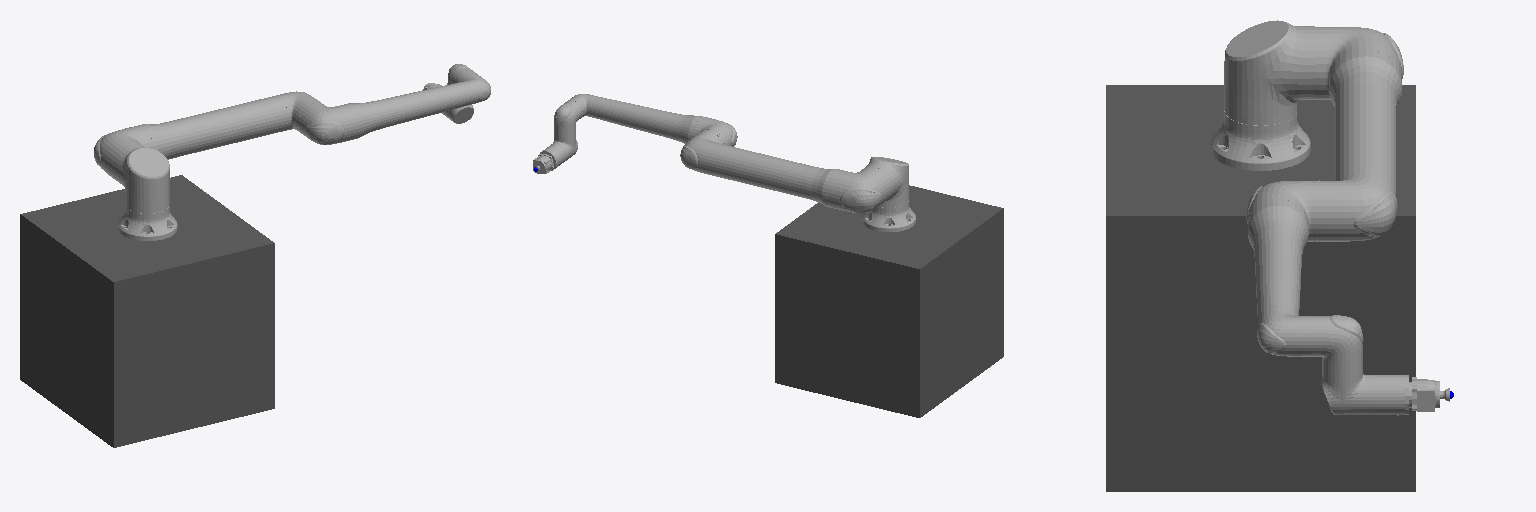
robot.urdf — ur20_robot:
<?xml version="1.0" ?>
<!-- =================================================================================== -->
<!-- |    This document was autogenerated by xacro from ur20.xacro                     | -->
<!-- |    EDITING THIS FILE BY HAND IS NOT RECOMMENDED                                 | -->
<!-- =================================================================================== -->
<robot name="ur20_robot">
  <!--
    Base UR robot series xacro macro.

    NOTE: this is NOT a URDF. It cannot directly be loaded by consumers
    expecting a flattened '.urdf' file. See the top-level '.xacro' for that
    (but note: that .xacro must still be processed by the xacro command).

    For use in '.launch' files: use one of the 'load_urX.launch' convenience
    launch files.

    This file models the base kinematic chain of a UR robot, which then gets
    parameterised by various configuration files to convert it into a UR3(e),
    UR5(e), UR10(e), UR16e, UR20 or UR30.

    NOTE: the default kinematic parameters (ie: link lengths, frame locations,
    offets, etc) do not correspond to any particular robot. They are defaults
    only. There WILL be non-zero offsets between the Forward Kinematics results
    in TF (ie: robot_state_publisher) and the values reported by the Teach
    Pendant.

    For accurate (and robot-specific) transforms, the 'kinematics_parameters_file'
    parameter MUST point to a .yaml file containing the appropriate values for
    the targetted robot.

    If using the UniversalRobots/Universal_Robots_ROS_Driver, follow the steps
    described in the readme of that repository to extract the kinematic
    calibration from the controller and generate the required .yaml file.

    Main author of the migration to yaml configs: Ludovic Delval.

    Contributors to previous versions (in no particular order):

     - Felix Messmer
     - Kelsey Hawkins
     - Wim Meeussen
     - Shaun Edwards
     - Nadia Hammoudeh Garcia
     - Dave Hershberger
     - G. vd. Hoorn
     - Philip Long
     - Dave Coleman
     - Miguel Prada
     - Mathias Luedtke
     - Marcel Schnirring
     - Felix von Drigalski
     - Felix Exner
     - Jimmy Da Silva
     - Ajit Krisshna N L
     - Muhammad Asif Rana
  -->
  <!--
    NOTE: the macro defined in this file is NOT part of the public API of this
          package. Users CANNOT rely on this file being available, or stored in
          this location. Nor can they rely on the existence of the macro.
  -->
  <transmission name="shoulder_pan_trans">
    <type>transmission_interface/SimpleTransmission</type>
    <joint name="shoulder_pan_joint">
      <hardwareInterface>hardware_interface/PositionJointInterface</hardwareInterface>
    </joint>
    <actuator name="shoulder_pan_motor">
      <mechanicalReduction>1</mechanicalReduction>
    </actuator>
  </transmission>
  <transmission name="shoulder_lift_trans">
    <type>transmission_interface/SimpleTransmission</type>
    <joint name="shoulder_lift_joint">
      <hardwareInterface>hardware_interface/PositionJointInterface</hardwareInterface>
    </joint>
    <actuator name="shoulder_lift_motor">
      <mechanicalReduction>1</mechanicalReduction>
    </actuator>
  </transmission>
  <transmission name="elbow_trans">
    <type>transmission_interface/SimpleTransmission</type>
    <joint name="elbow_joint">
      <hardwareInterface>hardware_interface/PositionJointInterface</hardwareInterface>
    </joint>
    <actuator name="elbow_motor">
      <mechanicalReduction>1</mechanicalReduction>
    </actuator>
  </transmission>
  <transmission name="wrist_1_trans">
    <type>transmission_interface/SimpleTransmission</type>
    <joint name="wrist_1_joint">
      <hardwareInterface>hardware_interface/PositionJointInterface</hardwareInterface>
    </joint>
    <actuator name="wrist_1_motor">
      <mechanicalReduction>1</mechanicalReduction>
    </actuator>
  </transmission>
  <transmission name="wrist_2_trans">
    <type>transmission_interface/SimpleTransmission</type>
    <joint name="wrist_2_joint">
      <hardwareInterface>hardware_interface/PositionJointInterface</hardwareInterface>
    </joint>
    <actuator name="wrist_2_motor">
      <mechanicalReduction>1</mechanicalReduction>
    </actuator>
  </transmission>
  <transmission name="wrist_3_trans">
    <type>transmission_interface/SimpleTransmission</type>
    <joint name="wrist_3_joint">
      <hardwareInterface>hardware_interface/PositionJointInterface</hardwareInterface>
    </joint>
    <actuator name="wrist_3_motor">
      <mechanicalReduction>1</mechanicalReduction>
    </actuator>
  </transmission>
    <!-- TODO: Added by Joe -->
    <!-- ===== world anchor and robot lift ===== -->
  <link name="world"/>

  <!-- Lift robot 29.5" (= 0.7493 m) above world -->
  <joint name="world_to_base_link" type="fixed">
    <parent link="world"/>
    <child link="base_link"/>
    <origin xyz="0 0 0.7493" rpy="0 0 0"/>
  </joint>

    <!-- ===== table geometry ===== -->
  <link name="table">
    <visual>
      <!-- If your visual mesh origin is at the *table center*, set xyz to table_center_in_world.
           If it's at the *table top*, set xyz to the table-top height (0.7493) -->
      <origin xyz="0 0 0.37465" rpy="0 0 0"/>
      <geometry>
        <mesh filename="package://ur_description/meshes/ur20/visual/table.obj" scale="1 1 1"/>
      </geometry>
      <material name="TableGrey">
        <color rgba="0.4 0.4 0.4 1.0"/>
      </material>
    </visual>
    <collision>
      <!-- Match pose to visual -->
      <origin xyz="0 0 0.37465" rpy="0 0 0"/>
      <geometry>
        <mesh filename="package://ur_description/meshes/ur20/collision/table.stl" scale="1 1 1"/>
      </geometry>
    </collision>
  </link>

  <!-- Attach table to world -->
  <joint name="world_to_table" type="fixed">
    <parent link="world"/>
    <child link="table"/>
    <origin xyz="0 0 0" rpy="0 0 0"/>
  </joint>
   <!-- TODO: Added by Joe -->
  <link name="base_link"/>
  <link name="base_link_inertia">
    <visual>
      <origin rpy="0 0 3.141592653589793" xyz="0 0 0"/>
      <geometry>
        <mesh filename="package://ur_description/meshes/ur20/visual/base.obj"/>
      </geometry>
      <material name="LightGrey">
        <color rgba="0.7 0.7 0.7 1.0"/>
      </material>
    </visual>
    <collision>
      <origin rpy="0 0 3.141592653589793" xyz="0 0 0"/>
      <geometry>
        <mesh filename="package://ur_description/meshes/ur20/collision/base.stl"/>
      </geometry>
    </collision>
    <inertial>
      <mass value="4.0"/>
      <origin rpy="0 0 0" xyz="0 0 0"/>
      <inertia ixx="0.0061063308908" ixy="0.0" ixz="0.0" iyy="0.0061063308908" iyz="0.0" izz="0.01125"/>
    </inertial>
  </link>
  <link name="shoulder_link">
    <visual>
      <origin rpy="0 0 3.141592653589793" xyz="0 0 0"/>
      <geometry>
        <mesh filename="package://ur_description/meshes/ur20/visual/shoulder.obj"/>
      </geometry>
      <material name="LightGrey">
        <color rgba="0.7 0.7 0.7 1.0"/>
      </material>
    </visual>
    <collision>
      <origin rpy="0 0 3.141592653589793" xyz="0 0 0"/>
      <geometry>
        <mesh filename="package://ur_description/meshes/ur20/collision/shoulder.stl"/>
      </geometry>
    </collision>
    <inertial>
      <mass value="16.343"/>
      <origin rpy="0 0 0" xyz="0 0 0"/>
      <inertia ixx="0.06613328496334209" ixy="0.0" ixz="0.0" iyy="0.06613328496334209" iyz="0.0" izz="0.0459646875"/>
    </inertial>
  </link>
  <link name="upper_arm_link">
    <visual>
      <origin rpy="1.5707963267948966 0 -1.5707963267948966" xyz="0 0 0.26"/>
      <geometry>
        <mesh filename="package://ur_description/meshes/ur20/visual/upperarm.obj"/>
      </geometry>
      <material name="LightGrey">
        <color rgba="0.7 0.7 0.7 1.0"/>
      </material>
    </visual>
    <collision>
      <origin rpy="1.5707963267948966 0 -1.5707963267948966" xyz="0 0 0.26"/>
      <geometry>
        <mesh filename="package://ur_description/meshes/ur20/collision/upperarm.stl"/>
      </geometry>
    </collision>
    <inertial>
      <mass value="29.632"/>
      <origin rpy="0 1.5707963267948966 0" xyz="-0.426 0.0 0.275"/>
      <inertia ixx="1.8341682103324226" ixy="0.0" ixz="0.0" iyy="1.8341682103324226" iyz="0.0" izz="0.08334"/>
    </inertial>
  </link>
  <link name="forearm_link">
    <visual>
      <origin rpy="1.5707963267948966 0 -1.5707963267948966" xyz="0 0 0.043"/>
      <geometry>
        <mesh filename="package://ur_description/meshes/ur20/visual/forearm.obj"/>
      </geometry>
      <material name="LightGrey">
        <color rgba="0.7 0.7 0.7 1.0"/>
      </material>
    </visual>
    <collision>
      <origin rpy="1.5707963267948966 0 -1.5707963267948966" xyz="0 0 0.043"/>
      <geometry>
        <mesh filename="package://ur_description/meshes/ur20/collision/forearm.stl"/>
      </geometry>
    </collision>
    <inertial>
      <mass value="7.879"/>
      <origin rpy="0 1.5707963267948966 0" xyz="-0.36435 0.0 0.043"/>
      <inertia ixx="0.35972787265129336" ixy="0.0" ixz="0.0" iyy="0.35972787265129336" iyz="0.0" izz="0.022159687499999997"/>
    </inertial>
  </link>
  <link name="wrist_1_link">
    <visual>
      <!-- TODO: Move this to a parameter -->
      <origin rpy="1.5707963267948966 0 0" xyz="0 0 -0.0775"/>
      <geometry>
        <mesh filename="package://ur_description/meshes/ur20/visual/wrist1.obj"/>
      </geometry>
      <material name="LightGrey">
        <color rgba="0.7 0.7 0.7 1.0"/>
      </material>
    </visual>
    <collision>
      <origin rpy="1.5707963267948966 0 0" xyz="0 0 -0.0775"/>
      <geometry>
        <mesh filename="package://ur_description/meshes/ur20/collision/wrist1.stl"/>
      </geometry>
    </collision>
    <inertial>
      <mass value="3.054"/>
      <origin rpy="0 0 0" xyz="0 0 0"/>
      <inertia ixx="0.007959484316204999" ixy="0.0" ixz="0.0" iyy="0.007959484316204999" iyz="0.0" izz="0.008589374999999998"/>
    </inertial>
  </link>
  <link name="wrist_2_link">
    <visual>
      <origin rpy="0 0 0" xyz="0 0 -0.0749"/>
      <geometry>
        <mesh filename="package://ur_description/meshes/ur20/visual/wrist2.obj"/>
      </geometry>
      <material name="LightGrey">
        <color rgba="0.7 0.7 0.7 1.0"/>
      </material>
    </visual>
    <collision>
      <origin rpy="0 0 0" xyz="0 0 -0.0749"/>
      <geometry>
        <mesh filename="package://ur_description/meshes/ur20/collision/wrist2.stl"/>
      </geometry>
    </collision>
    <inertial>
      <mass value="3.126"/>
      <origin rpy="0 0 0" xyz="0 0 0"/>
      <inertia ixx="0.008147134241144998" ixy="0.0" ixz="0.0" iyy="0.008147134241144998" iyz="0.0" izz="0.008791875"/>
    </inertial>
  </link>
  <link name="wrist_3_link">
    <visual>
      <origin rpy="1.5707963267948966 0 0" xyz="0 0 -0.07"/>
      <geometry>
        <mesh filename="package://ur_description/meshes/ur20/visual/wrist3.obj"/>
      </geometry>
      <material name="LightGrey">
        <color rgba="0.7 0.7 0.7 1.0"/>
      </material>
    </visual>
    <collision>
      <origin rpy="1.5707963267948966 0 0" xyz="0 0 -0.07"/>
      <geometry>
        <mesh filename="package://ur_description/meshes/ur20/collision/wrist3.stl"/>
      </geometry>
    </collision>
    <inertial>
      <mass value="0.846"/>
      <origin rpy="0 0 0" xyz="0.0 0.0 -0.025"/>
      <inertia ixx="0.000604537258185" ixy="0.0" ixz="0.0" iyy="0.000604537258185" iyz="0.0" izz="0.0008565749999999999"/>
    </inertial>
  </link>
  <!-- joints: main serial chain -->
  <joint name="base_link-base_link_inertia" type="fixed">
    <parent link="base_link"/>
    <child link="base_link_inertia"/>
    <!-- 'base_link' is REP-103 aligned (so X+ forward), while the internal
           frames of the robot/controller have X+ pointing backwards.
           Use the joint between 'base_link' and 'base_link_inertia' (a dummy
           link/frame) to introduce the necessary rotation over Z (of pi rad).
      -->
    <origin rpy="0 0 3.141592653589793" xyz="0 0 0"/>
  </joint>
  <joint name="shoulder_pan_joint" type="revolute">
    <parent link="base_link_inertia"/>
    <child link="shoulder_link"/>
    <origin rpy="0 0 0" xyz="0 0 0.2363"/>
    <axis xyz="0 0 1"/>
    <limit effort="730.0" lower="-6.283185307179586" upper="6.283185307179586" velocity="2.0943951023931953"/>
    <dynamics damping="0" friction="0"/>
  </joint>
  <joint name="shoulder_lift_joint" type="revolute">
    <parent link="shoulder_link"/>
    <child link="upper_arm_link"/>
    <origin rpy="1.570796327 0 0" xyz="0 0 0"/>
    <axis xyz="0 0 1"/>
    <limit effort="730.0" lower="-6.283185307179586" upper="6.283185307179586" velocity="2.0943951023931953"/>
    <dynamics damping="0" friction="0"/>
  </joint>
  <joint name="elbow_joint" type="revolute">
    <parent link="upper_arm_link"/>
    <child link="forearm_link"/>
    <origin rpy="0 0 0" xyz="-0.862 0 0"/>
    <axis xyz="0 0 1"/>
    <limit effort="430.0" lower="-3.141592653589793" upper="3.141592653589793" velocity="2.6179938779914944"/>
    <dynamics damping="0" friction="0"/>
  </joint>
  <joint name="wrist_1_joint" type="revolute">
    <parent link="forearm_link"/>
    <child link="wrist_1_link"/>
    <origin rpy="0 0 0" xyz="-0.7287 0 0.201"/>
    <axis xyz="0 0 1"/>
    <limit effort="100.0" lower="-6.283185307179586" upper="6.283185307179586" velocity="3.6651914291880923"/>
    <dynamics damping="0" friction="0"/>
  </joint>
  <joint name="wrist_2_joint" type="revolute">
    <parent link="wrist_1_link"/>
    <child link="wrist_2_link"/>
    <origin rpy="1.570796327 0 0" xyz="0 -0.1593 -3.267297616249225e-11"/>
    <axis xyz="0 0 1"/>
    <limit effort="100.0" lower="-6.283185307179586" upper="6.283185307179586" velocity="3.6651914291880923"/>
    <dynamics damping="0" friction="0"/>
  </joint>
  <joint name="wrist_3_joint" type="revolute">
    <parent link="wrist_2_link"/>
    <child link="wrist_3_link"/>
    <origin rpy="1.570796326589793 3.141592653589793 3.141592653589793" xyz="0 0.1543 -3.1647459019915597e-11"/>
    <axis xyz="0 0 1"/>
    <limit effort="100.0" lower="-6.283185307179586" upper="6.283185307179586" velocity="3.6651914291880923"/>
    <dynamics damping="0" friction="0"/>
  </joint>
  <!-- ROS-Industrial 'base' frame: base_link to UR 'Base' Coordinates transform -->
  <link name="base"/>
  <joint name="base_link-base_fixed_joint" type="fixed">
    <!-- Note the rotation over Z of pi radians: as base_link is REP-103
           aligned (ie: has X+ forward, Y+ left and Z+ up), this is needed
           to correctly align 'base' with the 'Base' coordinate system of
           the UR controller.
      -->
    <origin rpy="0 0 3.141592653589793" xyz="0 0 0"/>
    <parent link="base_link"/>
    <child link="base"/>
  </joint>
  <!-- ROS-Industrial 'flange' frame: attachment point for EEF models -->
  <link name="flange"/>
  <joint name="wrist_3-flange" type="fixed">
    <parent link="wrist_3_link"/>
    <child link="flange"/>
    <origin rpy="0 -1.5707963267948966 -1.5707963267948966" xyz="0 0 0"/>
  </joint>
  <!-- ROS-Industrial 'tool0' frame: all-zeros tool frame -->
  <link name="tool0"/>
  <joint name="flange-tool0" type="fixed">
    <!-- default toolframe: X+ left, Y+ up, Z+ front -->
    <origin rpy="1.5707963267948966 0 1.5707963267948966" xyz="0 0 0"/>
    <parent link="flange"/>
    <child link="tool0"/>
  </joint>
  <!-- === begin Piab gripper === -->
  <link name="piab_gripper">
    <visual>
      <origin xyz="0 0 0" rpy="0 0 0"/>
      <geometry>
        <mesh filename="package://ur_description/meshes/ur20/visual/piab_gripper.obj"/>
      </geometry>
      <material name="Gray">
        <color rgba="0.7 0.7 0.7 1.0"/>
      </material>
    </visual>
    <collision>
      <origin xyz="0 0 0" rpy="0 0 0"/>
      <geometry>
        <mesh filename="package://ur_description/meshes/ur20/collision/gripper_collision.stl"/>
      </geometry>
    </collision>
    <!-- inertial can be omitted (massless) or filled in if you know the gripper mass/inertia -->
  </link>
  <joint name="tool0_to_piab_gripper" type="fixed">
    <parent link="tool0"/>
    <child  link="piab_gripper"/>
    <!-- tcf.point = [-1.7e-13, -4.2e-17, 0.109815...] ≃ (0,0,0.109815) with identity axes -->
    <origin xyz="0 0 0" rpy="0 0 0"/>
  </joint>
  <link name="gripper_tip">
  <!-- blue sphere so you can see it -->
  <visual>
    <origin xyz="0 0 0" rpy="0 0 0"/>
    <geometry><sphere radius="0.01"/></geometry>
    <material name="blue"><color rgba="0 0 1 1"/></material>
  </visual>

  <!-- collision sphere that PyBullet will use -->
  <collision>
    <origin xyz="0 0 0" rpy="0 0 0"/>
    <geometry><sphere radius="0.01"/></geometry>
  </collision>

  <!-- optional inertial; harmless to leave massless -->
</link>
  
  <joint name="piab_to_gripper_tip" type="fixed">
    <parent link="piab_gripper"/>
    <child link="gripper_tip"/>
    <origin xyz="0 0 0.11" rpy="0 0 0"/>  <!-- adjust 0.1 to actual tip offset -->
  </joint>
  <!-- === end Piab gripper === -->
</robot>

--- Facts derived from the render (not from the file) ---
Views: 3 orthographic renders of the robot side by side, from view 1: azimuth 30°, elevation 25°; view 2: azimuth 150°, elevation 25°; view 3: azimuth 270°, elevation 25°.
Robot: ur20_robot — 15 links, 14 joints (6 revolute, 8 fixed); root link world; default pose: every joint at zero.
Visible links, largest first — view 1: table, upper_arm_link, forearm_link, shoulder_link, base_link_inertia; view 2: table, upper_arm_link, forearm_link, shoulder_link, base_link_inertia, wrist_1_link; view 3: table, upper_arm_link, forearm_link, shoulder_link, base_link_inertia, wrist_1_link, wrist_2_link, piab_gripper, wrist_3_link.
Boxes of the visible links, x1,y1,x2,y2 form: table: (20, 175, 274, 447); upper_arm_link: (94, 91, 320, 180); forearm_link: (297, 72, 490, 144); shoulder_link: (112, 144, 169, 213); base_link_inertia: (118, 205, 177, 240); table: (775, 185, 1003, 417); upper_arm_link: (680, 130, 891, 212); forearm_link: (568, 94, 737, 146); shoulder_link: (865, 157, 908, 207); base_link_inertia: (862, 201, 915, 231); wrist_1_link: (554, 100, 582, 137); table: (1106, 85, 1415, 491); upper_arm_link: (1313, 27, 1403, 241); forearm_link: (1246, 181, 1320, 356); shoulder_link: (1224, 20, 1314, 125); base_link_inertia: (1211, 111, 1310, 170); wrist_1_link: (1311, 315, 1363, 375); wrist_2_link: (1321, 369, 1376, 414); piab_gripper: (1405, 375, 1449, 414); wrist_3_link: (1377, 375, 1404, 415).
Size in the robot's own frame: 2.02 by 0.8563 by 1.08 metres.
Meshes: 9 distinct files referenced, 9 mesh visuals loaded (9 OBJ).
